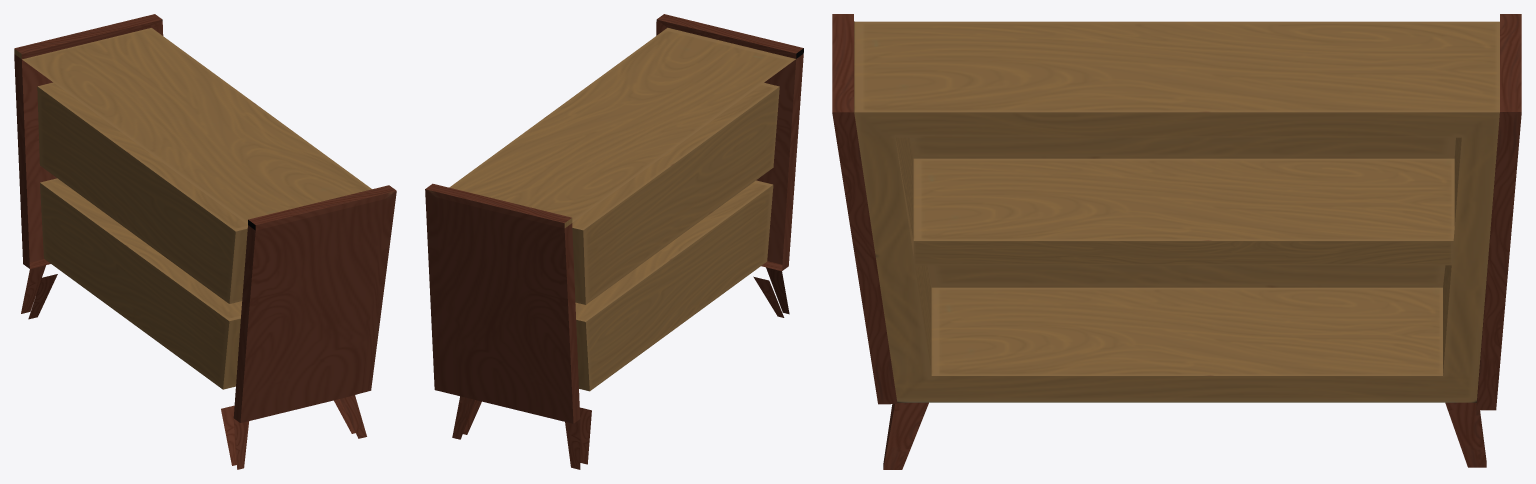
The model's file is BibliSmall.FBX.
3 renders of one model, left to right at view 1: azimuth 30°, elevation 25°; view 2: azimuth 150°, elevation 25°; view 3: azimuth 270°, elevation 25°, orthographic. The views are drawn at different scales.
Visible parts, largest first — view 1: Object002; view 2: Object002; view 3: Object002.
Boxes of the visible parts, x1=… form: Object002: x1=14, y1=14, x2=396, y2=469; Object002: x1=425, y1=14, x2=803, y2=469; Object002: x1=832, y1=14, x2=1521, y2=469.
Size of the model in its own units: 82.52 by 139 by 237.
